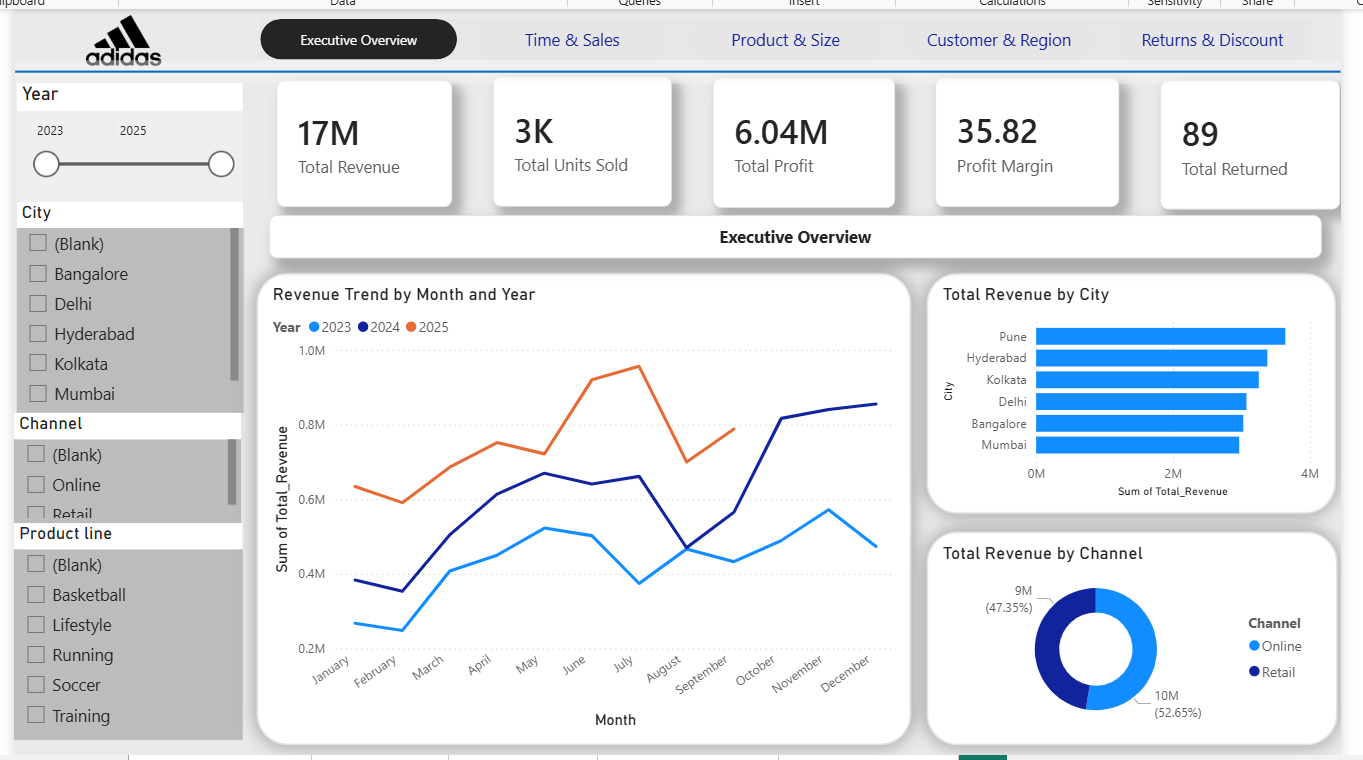

What the dashboard file says about the page in this screenshot:
{"tool":"powerbi","page":{"name":"Executive Overview","canvas":[1280,720],"ordinal":0},"visuals":[{"type":"lineChart","title":"Revenue Trend by Month and Year","fields":{"Y":["Sum(Sales_Data.Total_Revenue)"],"Series":["Sales_Data.Year"],"Category":["Sales_Data.Month"]},"box":[234,254.6,632.2,456],"z":0},{"type":"clusteredBarChart","title":"Total Revenue by City","fields":{"Y":["Sum(Sales_Data.Total_Revenue)"],"Category":["Sales_Data.City"]},"box":[881,254,395.1,233.1],"z":1000},{"type":"donutChart","title":"Total Revenue by Channel","fields":{"Y":["Sum(Sales_Data.Total_Revenue)"],"Category":["Sales_Data.Channel"]},"box":[880.7,504.3,396.9,206.3],"z":2000},{"type":"cardVisual","fields":{"Data":["_measures.Total Revenue"]},"box":[253.1,68.5,170,122.3],"z":3000},{"type":"cardVisual","fields":{"Data":["_measures.Total Returned"]},"box":[1106.4,68.5,173.6,124.7],"z":4000},{"type":"cardVisual","fields":{"Data":["_measures.Total Units Sold"]},"box":[462.5,64.8,172.4,126],"z":5000},{"type":"cardVisual","fields":{"Data":["_measures.Profit Margin %"]},"box":[889.7,66,177.3,124.7],"z":6000},{"type":"cardVisual","fields":{"Data":["_measures.Total Profit"]},"box":[674.2,66,176.1,126],"z":7000},{"type":"slicer","title":"Year","fields":{"Values":["Sales_Data.Year"]},"box":[2.4,71.2,218.4,119.4],"z":8000},{"type":"slicer","title":"City","fields":{"Values":["Sales_Data.City"]},"box":[2.4,185.8,219.6,203.9],"z":9000},{"type":"slicer","title":"Product line","fields":{"Values":["Sales_Data.Product_Line"]},"box":[0,495.8,220.8,209.9],"z":10000},{"type":"slicer","title":"Channel","fields":{"Values":["Sales_Data.Channel"]},"box":[0,389.7,219.6,106.2],"z":11000},{"type":"image","box":[45.2,4.9,119.8,50.1],"z":12000},{"type":"pageNavigator","box":[237.2,9.8,1016.2,39.1],"z":13000},{"type":"textbox","box":[245.8,199.3,1016.2,41.6],"z":14000},{"type":"shape","box":[0.9,48.9,1279.1,22],"z":15000}]}

Visuals, with their boxes on the page's 1280x720 design canvas (x1, y1, x2, y2). These are canvas units, not pixel positions in the 1363x760 screenshot, which may show the page scaled, cropped or inside an application window:
"Revenue Trend by Month and Year" lineChart: (left=234, top=255, right=866, bottom=711)
"Total Revenue by City" clusteredBarChart: (left=881, top=254, right=1276, bottom=487)
"Total Revenue by Channel" donutChart: (left=881, top=504, right=1278, bottom=711)
cardVisual - _measures.Total Revenue: (left=253, top=68, right=423, bottom=191)
cardVisual - _measures.Total Returned: (left=1106, top=68, right=1280, bottom=193)
cardVisual - _measures.Total Units Sold: (left=462, top=65, right=635, bottom=191)
cardVisual - _measures.Profit Margin %: (left=890, top=66, right=1067, bottom=191)
cardVisual - _measures.Total Profit: (left=674, top=66, right=850, bottom=192)
"Year" slicer: (left=2, top=71, right=221, bottom=191)
"City" slicer: (left=2, top=186, right=222, bottom=390)
"Product line" slicer: (left=0, top=496, right=221, bottom=706)
"Channel" slicer: (left=0, top=390, right=220, bottom=496)
image: (left=45, top=5, right=165, bottom=55)
pageNavigator: (left=237, top=10, right=1253, bottom=49)
textbox: (left=246, top=199, right=1262, bottom=241)
shape: (left=1, top=49, right=1280, bottom=71)
